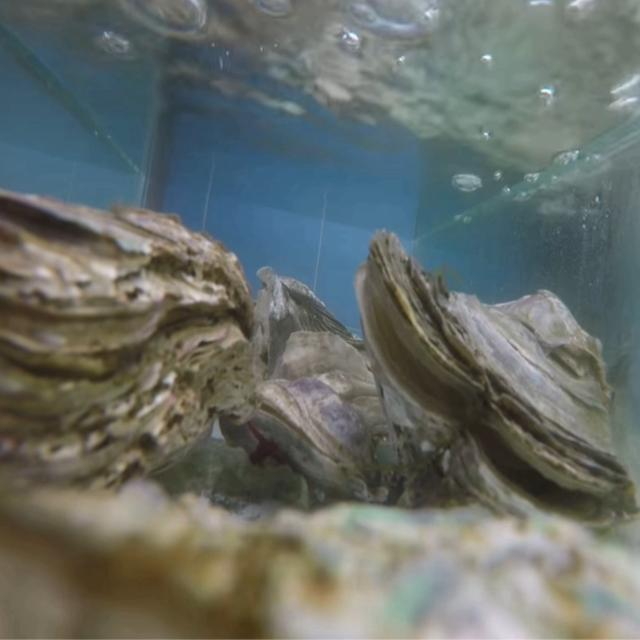Oyster-Closed: (0, 190, 255, 527), (248, 332, 412, 508)
Oyster-Indeterminate: (0, 482, 640, 640)
Oyster-Open: (354, 228, 640, 543)
